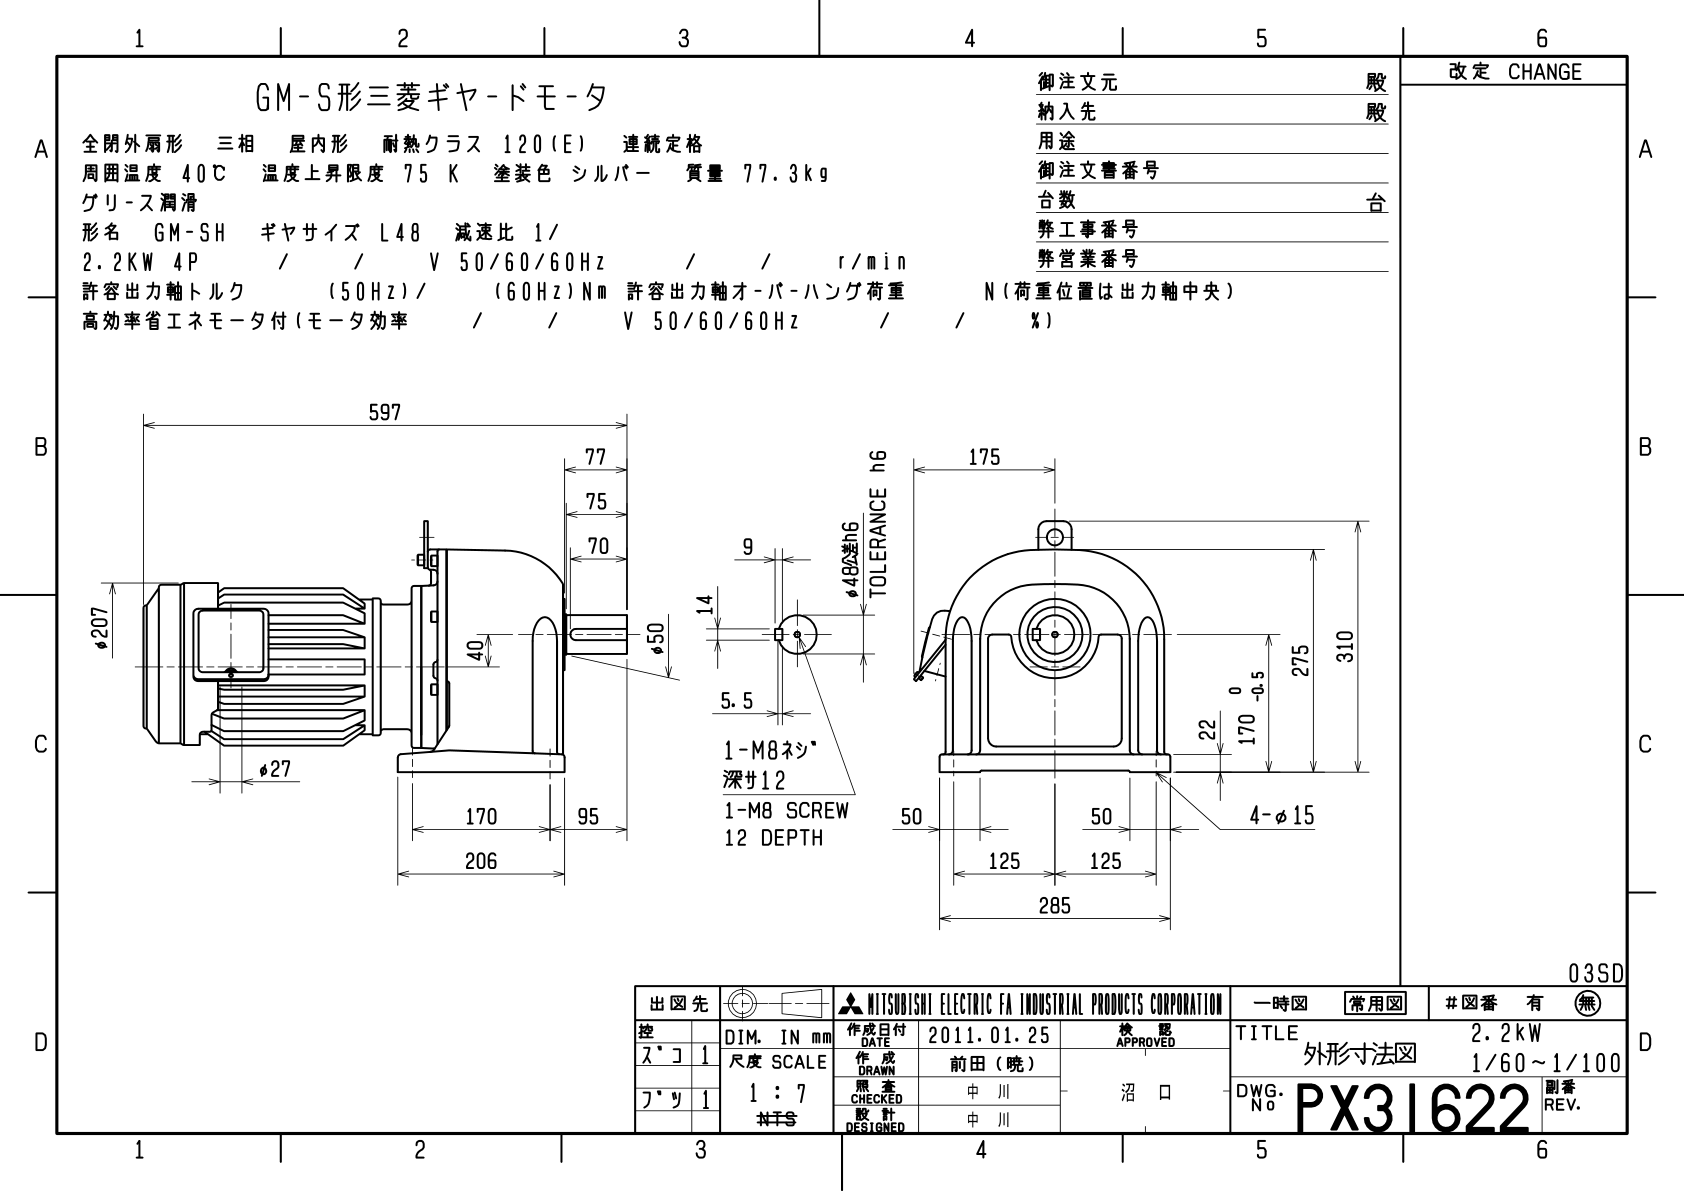GM_S_高効率屋内＿三相_脚: (73, 375, 1383, 944)
